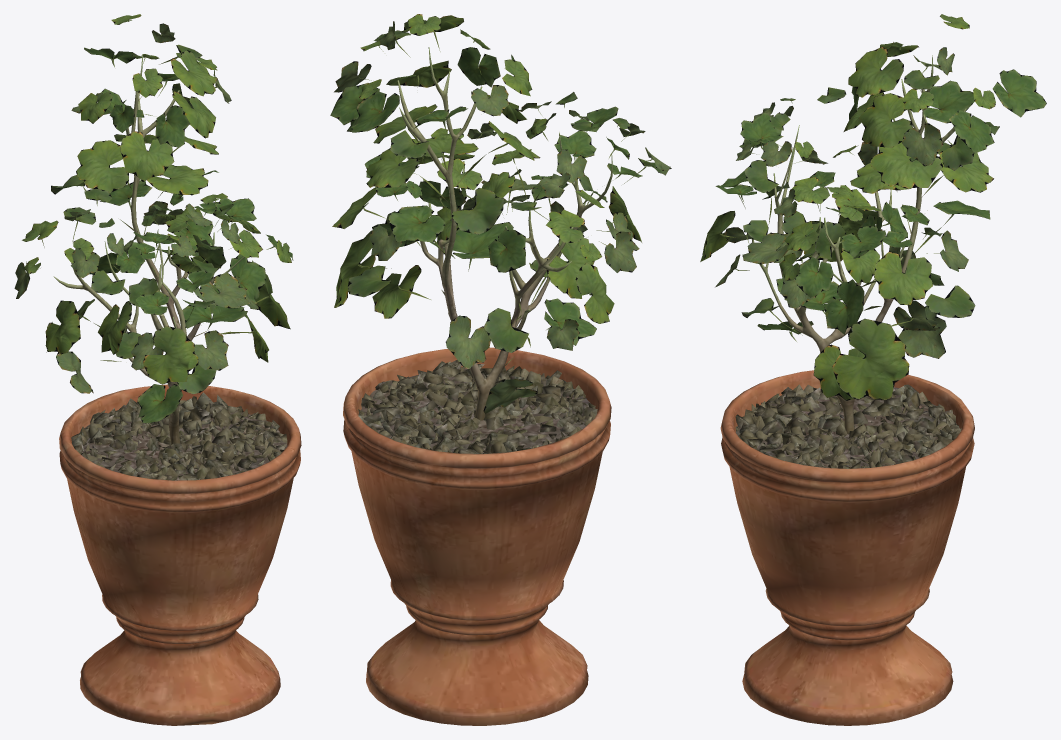
The model's file is potted_plant_01.glb.
3 views of the same model, side by side, from view 1: azimuth 30°, elevation 25°; view 2: azimuth 150°, elevation 25°; view 3: azimuth 270°, elevation 25° (orthographic). The views are drawn at different scales.
Visible parts, largest first — view 1: potted_plant_01_pot, potted_plant_01_leaves, potted_plant_01_pebbles, potted_plant_01_stem; view 2: potted_plant_01_pot, potted_plant_01_leaves, potted_plant_01_pebbles, potted_plant_01_stem; view 3: potted_plant_01_pot, potted_plant_01_leaves, potted_plant_01_pebbles, potted_plant_01_stem.
Boxes of the visible parts, box(x1,y1,x2,y2) form: potted_plant_01_pot: box(59, 384, 301, 725); potted_plant_01_leaves: box(14, 14, 293, 423); potted_plant_01_pebbles: box(71, 392, 287, 480); potted_plant_01_stem: box(53, 54, 244, 444); potted_plant_01_pot: box(343, 347, 611, 725); potted_plant_01_leaves: box(330, 14, 671, 413); potted_plant_01_pebbles: box(358, 360, 597, 453); potted_plant_01_stem: box(397, 47, 612, 420); potted_plant_01_pot: box(720, 370, 974, 725); potted_plant_01_leaves: box(700, 14, 1046, 400); potted_plant_01_pebbles: box(735, 384, 961, 468); potted_plant_01_stem: box(751, 55, 966, 433).
Size of the model in its own units: 0.5866 by 1.34 by 0.6336.
2 materials, 2 textured.
